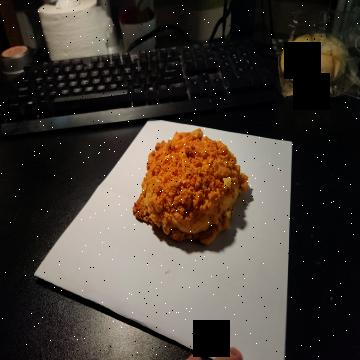soboru_bread: (132, 129, 250, 250)
